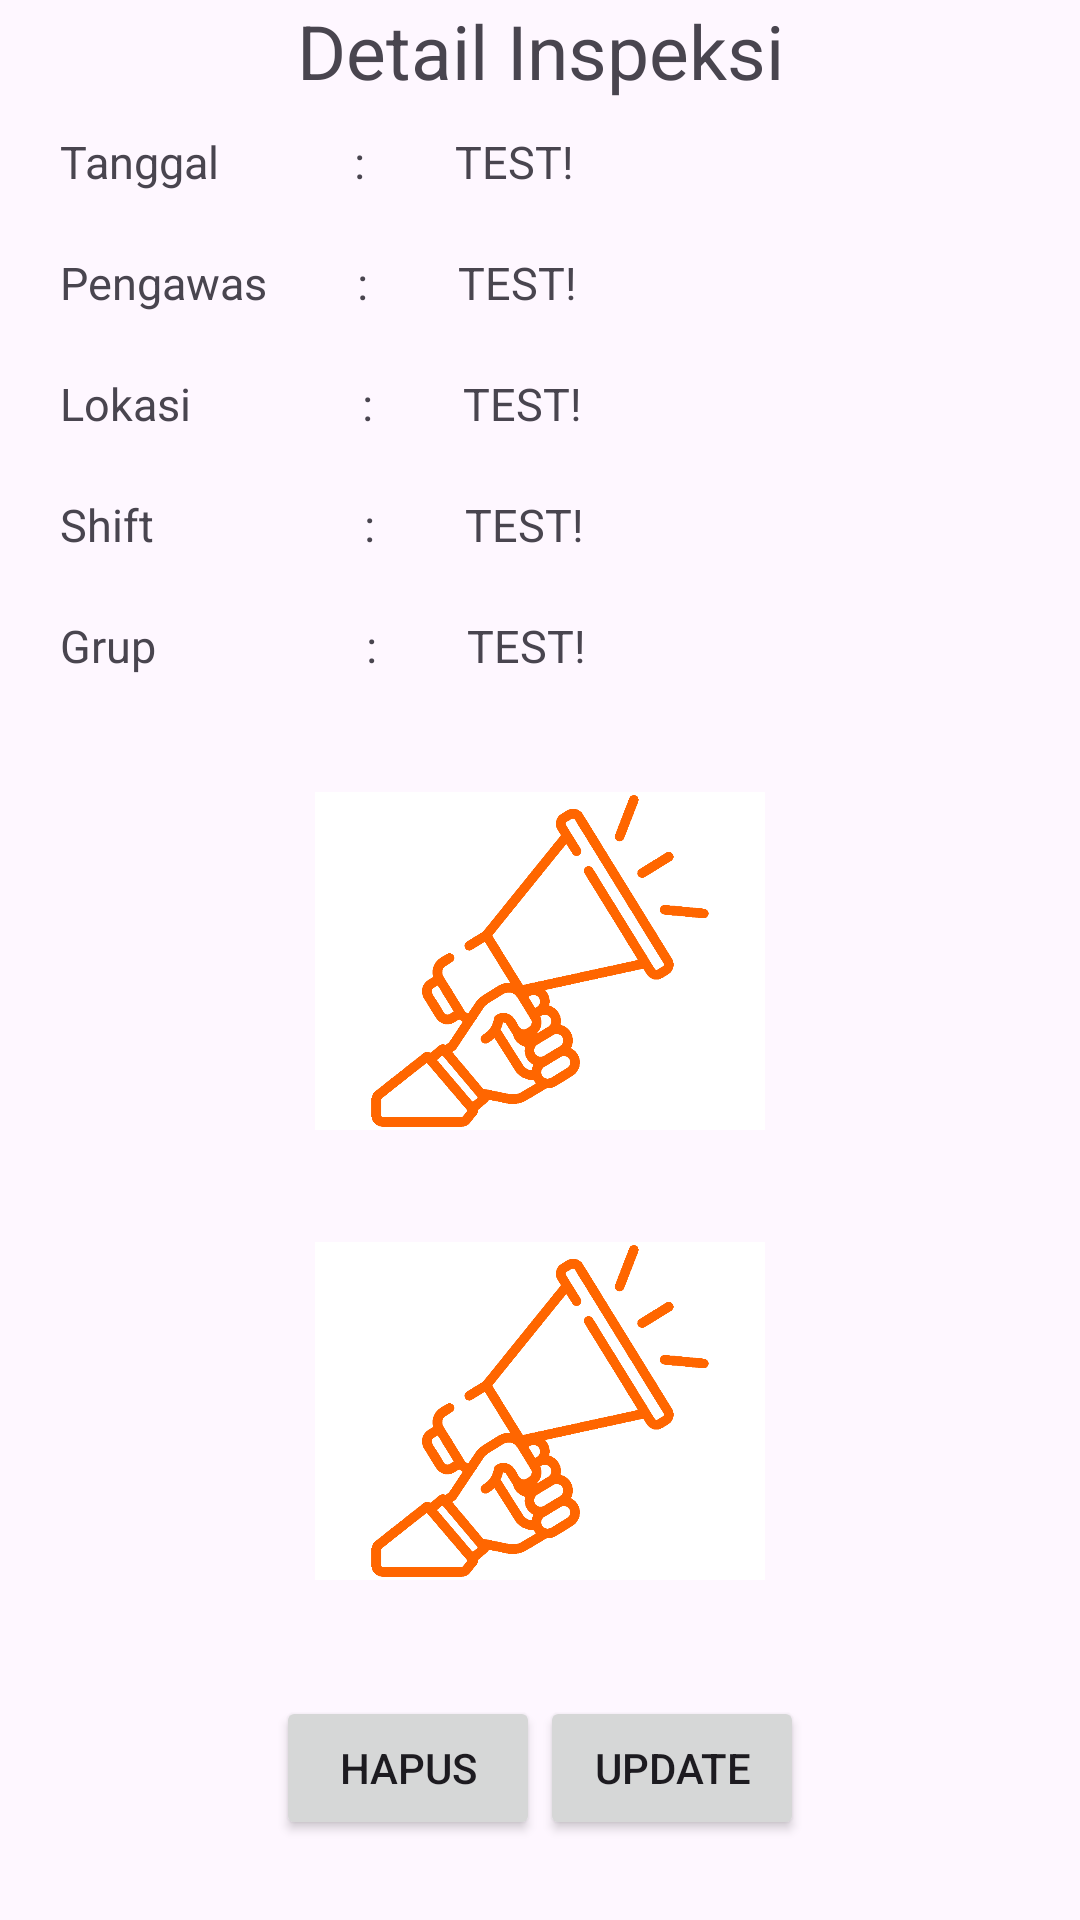

Icons on this 1080 × 1920 Android screen, each with the point to tap as point (x, y):
promotif: point (540, 961), point (540, 1411)
